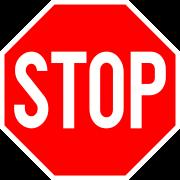Stop: (5, 19, 172, 172)
